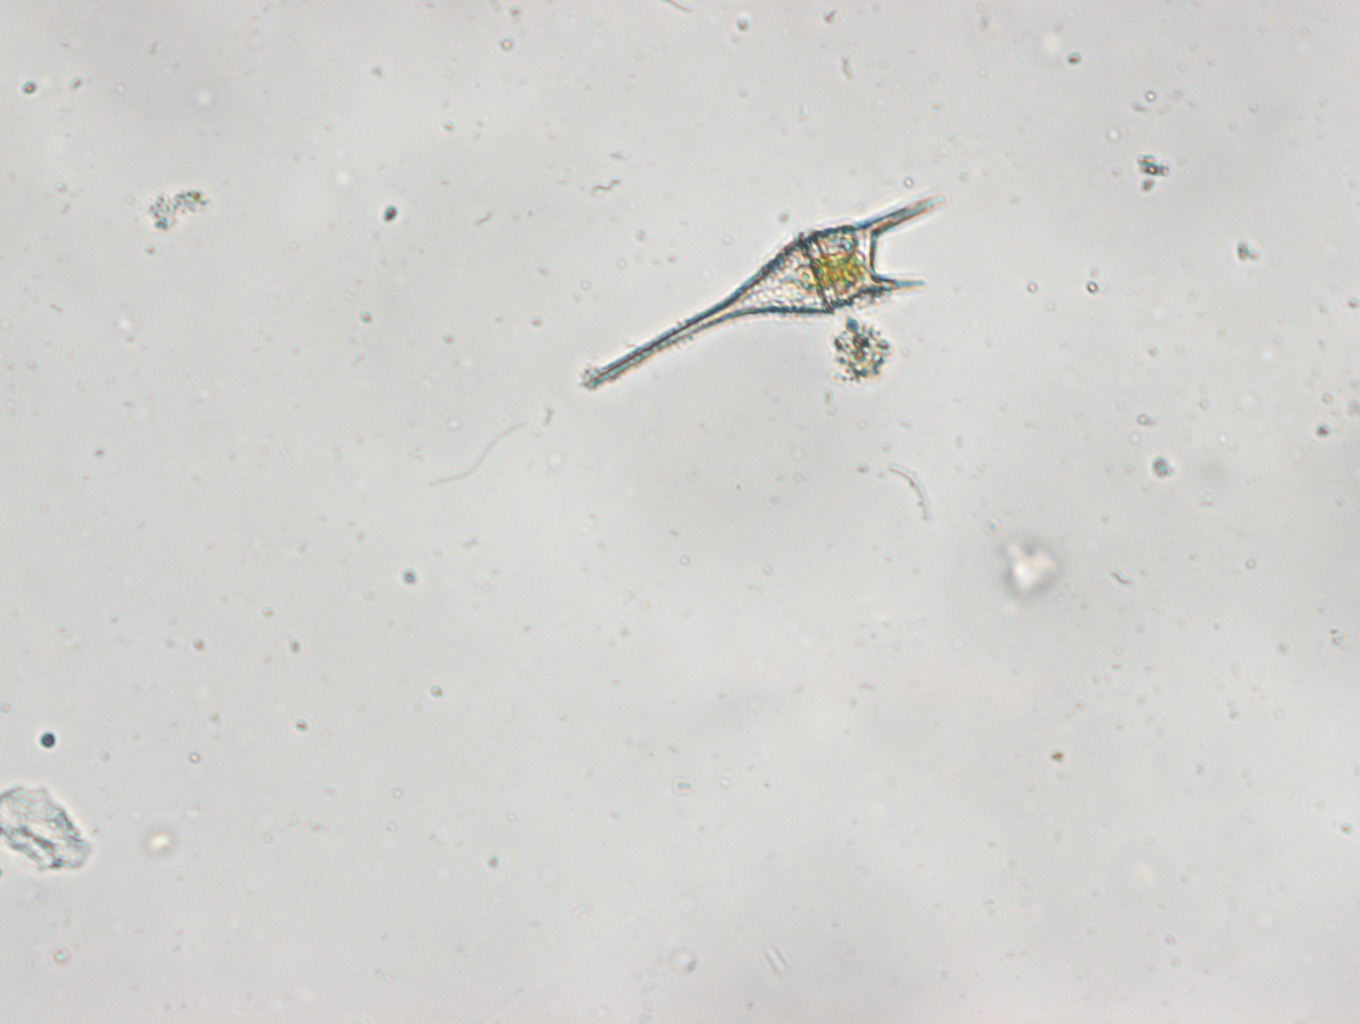ceratium furca: (577, 185, 946, 400)
